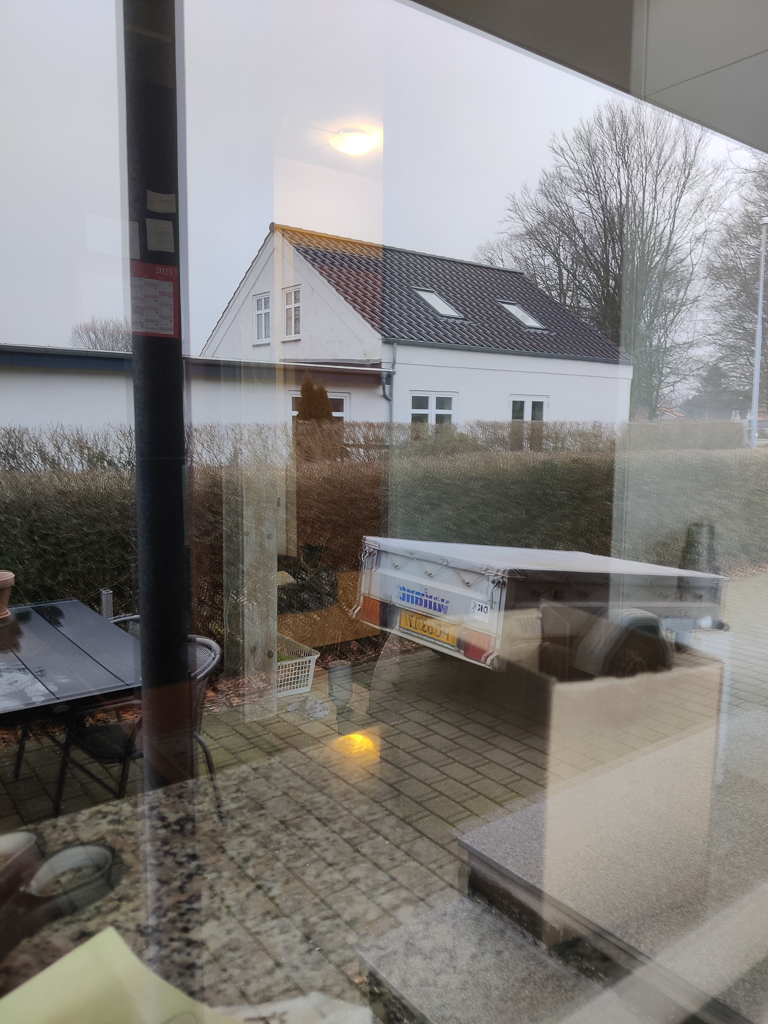Dog: (268, 537, 332, 590)
